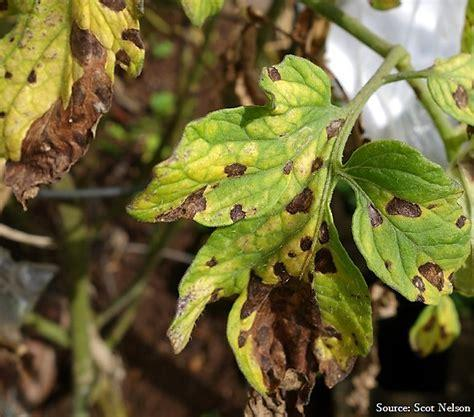black-spot: (213, 151, 250, 186), (382, 188, 419, 223)
